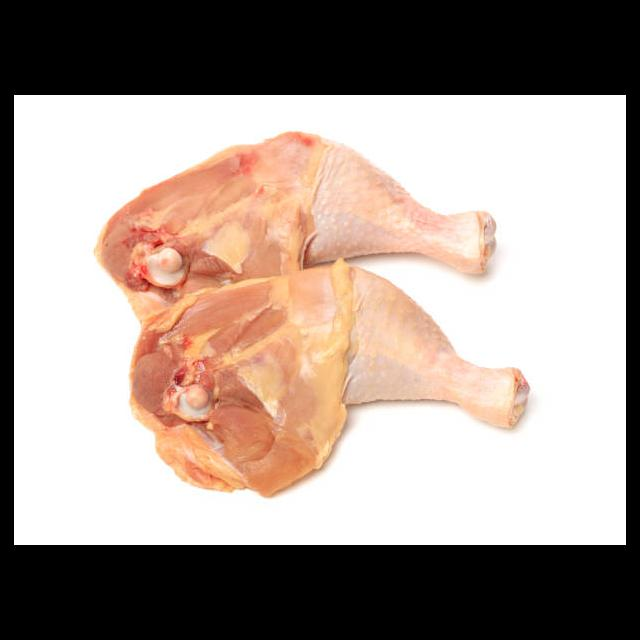chicken: (126, 259, 531, 500), (92, 130, 499, 302)
